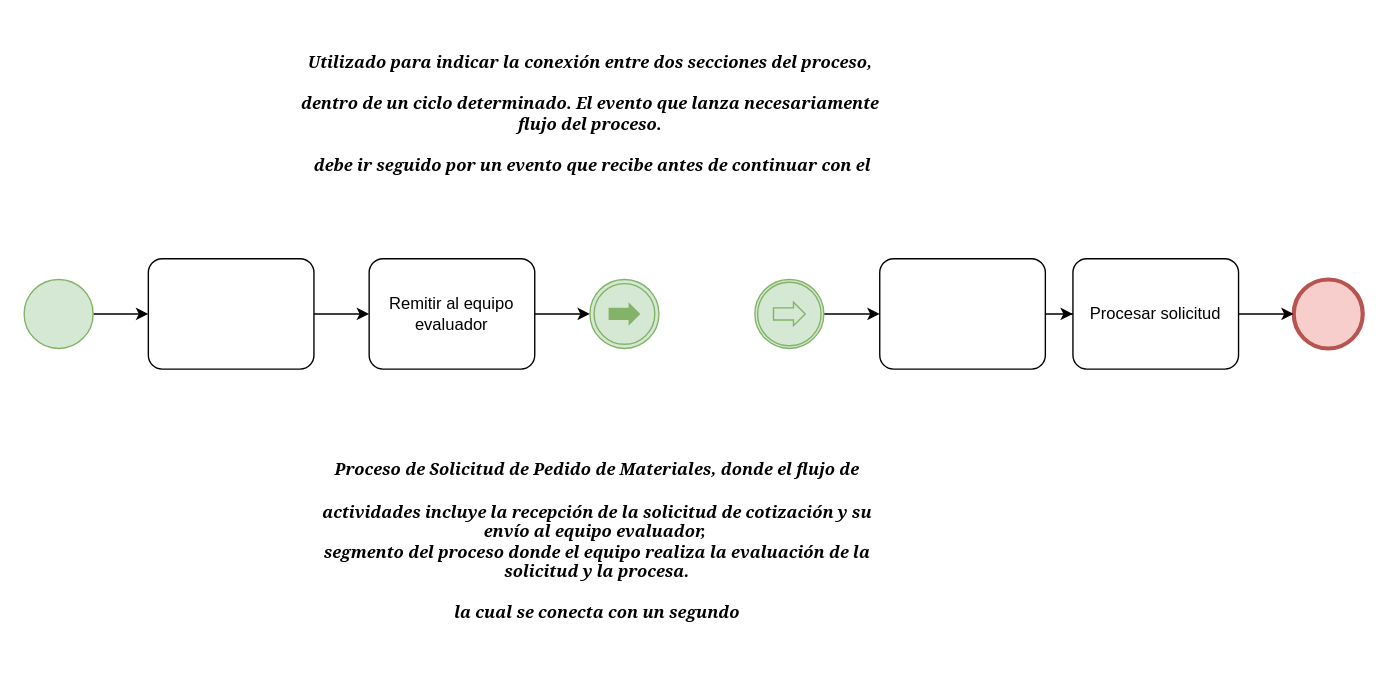
This 1387x675 diagram has some shape labels left out. The centre of each missing label's shape, as x and y in pixels:
Evaluar solicitud de contizacion: point 961,313
Recibir solicitud de cotizacion: point 230,313
